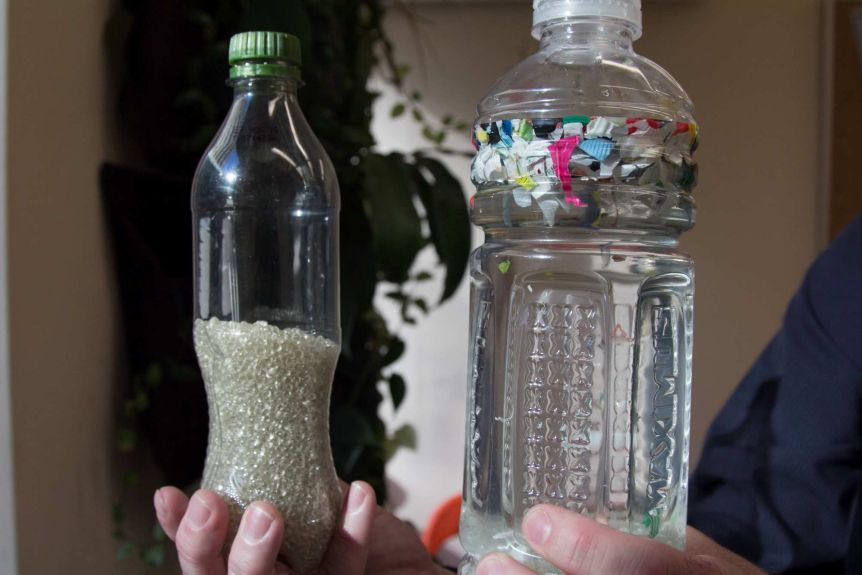plastic_bottle: (400, 2, 799, 575), (107, 7, 445, 569)
